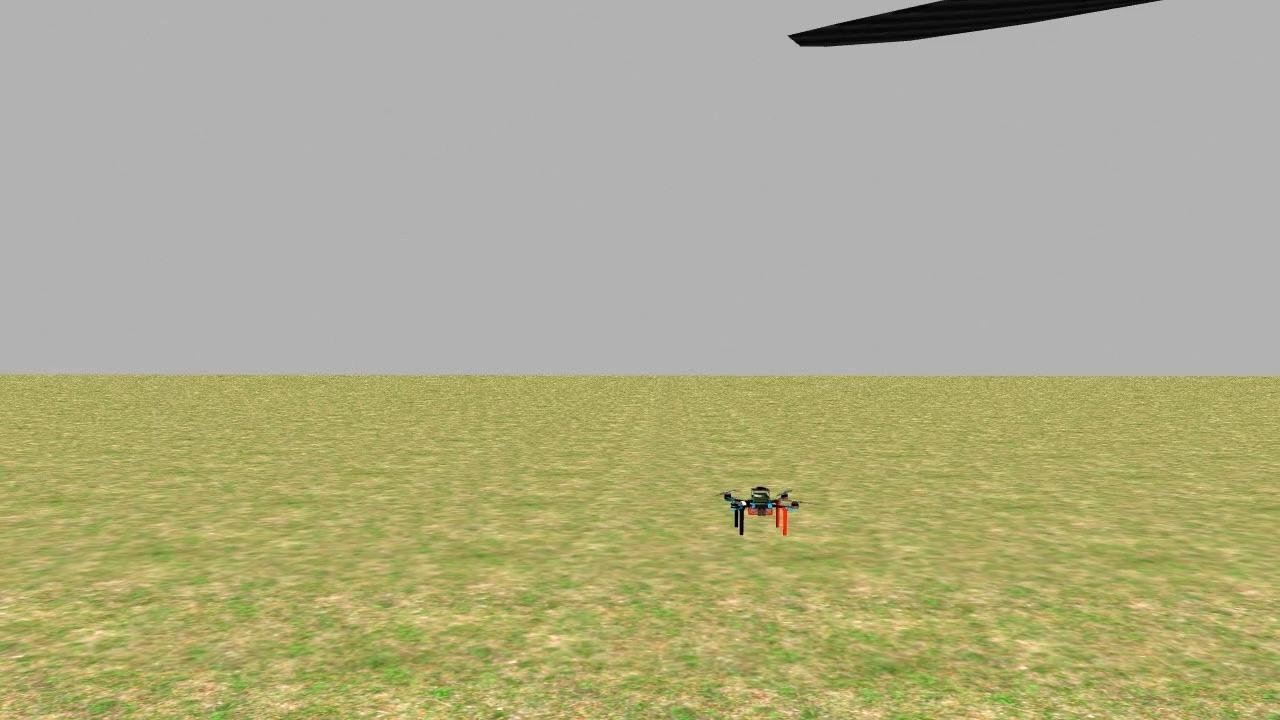UAV: (712, 471, 814, 546)
